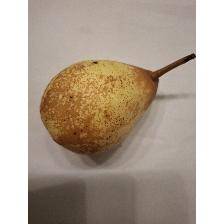Birne: (40, 52, 196, 160)
